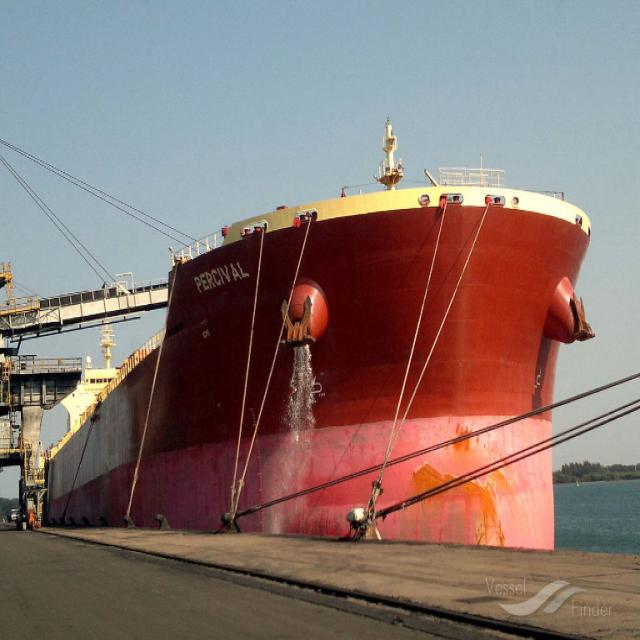OCR: (184, 252, 254, 296)
